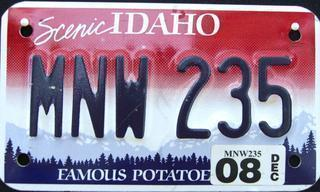placa de veiculo: (5, 8, 317, 191)
